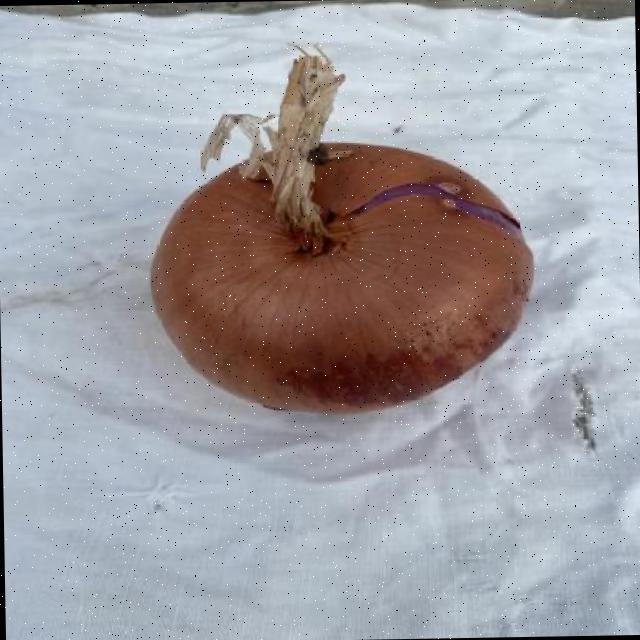Onion: (152, 48, 534, 411)
